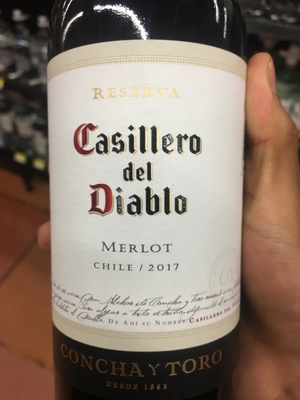casillero del diablo merlot: (42, 12, 243, 400)
